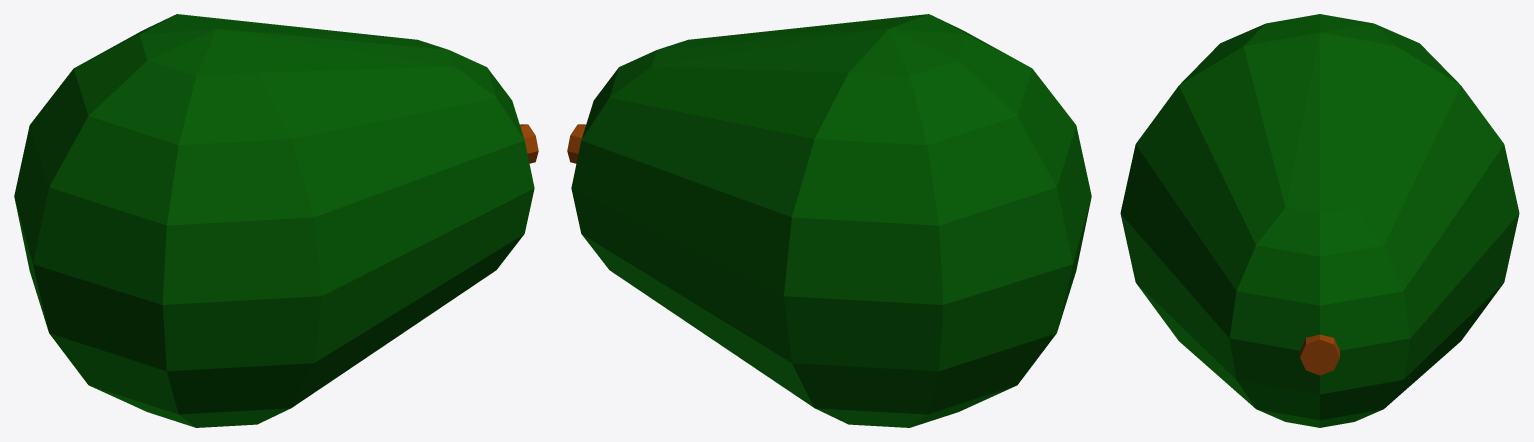
Rendered from avocado.fbx.
The picture shows the model from 3 angles, left to right: view 1: azimuth 30°, elevation 25°; view 2: azimuth 150°, elevation 25°; view 3: azimuth 270°, elevation 25°; orthographic projection. The views are drawn at different scales.
Parts seen in each view (by area): view 1: Avocado; view 2: Avocado; view 3: Avocado.
Boxes of the visible parts, x1,y1,x2,y2 form: Avocado: (14,14,538,427); Avocado: (567,14,1091,427); Avocado: (1120,14,1519,427).
Size of the model in its own units: 272 by 200 by 200.
